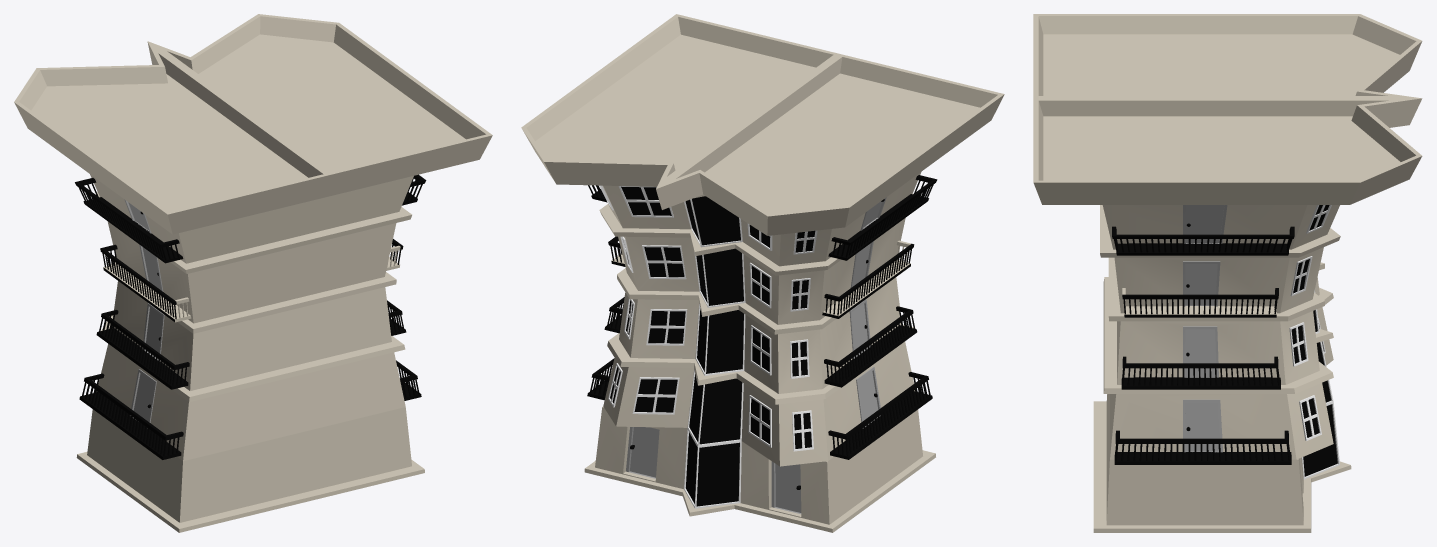
The model's file is houseappartementsstylized.fbx.
3 views of the same model, side by side, from view 1: azimuth 30°, elevation 25°; view 2: azimuth 150°, elevation 25°; view 3: azimuth 270°, elevation 25° (orthographic). The views are drawn at different scales.
Parts seen in each view (by area): view 1: houseappartementsstylized; view 2: houseappartementsstylized; view 3: houseappartementsstylized.
Part boxes in pixels (bbox=[...]): houseappartementsstylized: bbox=[14, 14, 492, 532]; houseappartementsstylized: bbox=[521, 14, 1004, 532]; houseappartementsstylized: bbox=[1033, 14, 1422, 532].
Bounding box in the file's own units: 1845 × 1891 × 1798.
